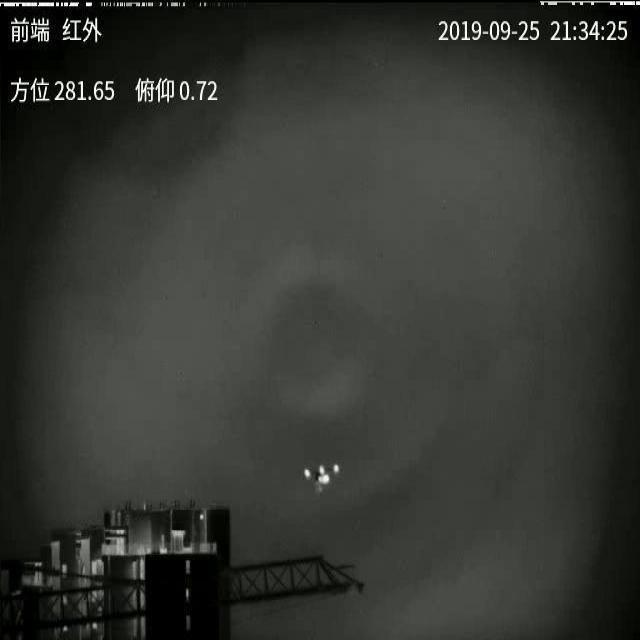drone: (302, 462, 344, 499)
